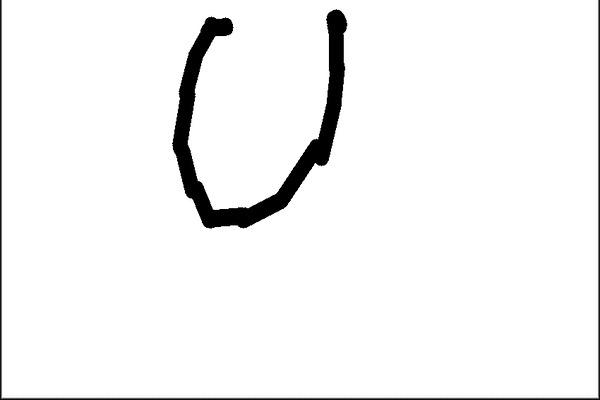U: (169, 3, 353, 229)
